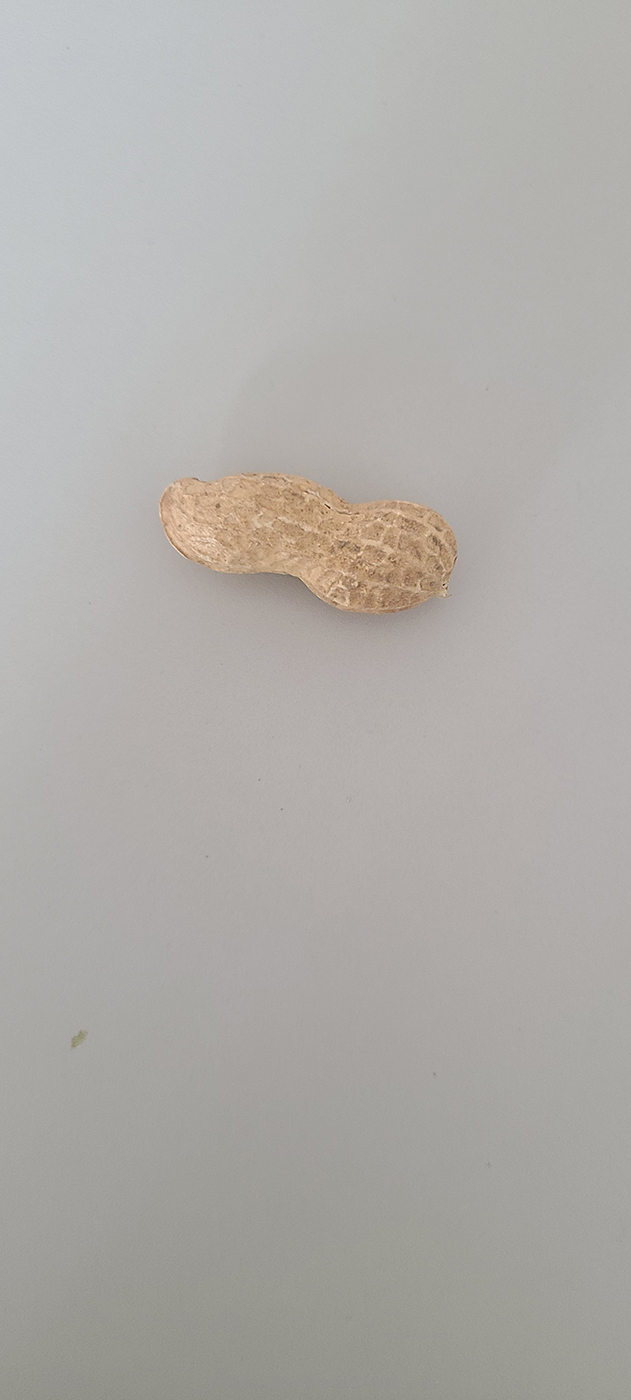h: (157, 467, 459, 617)
